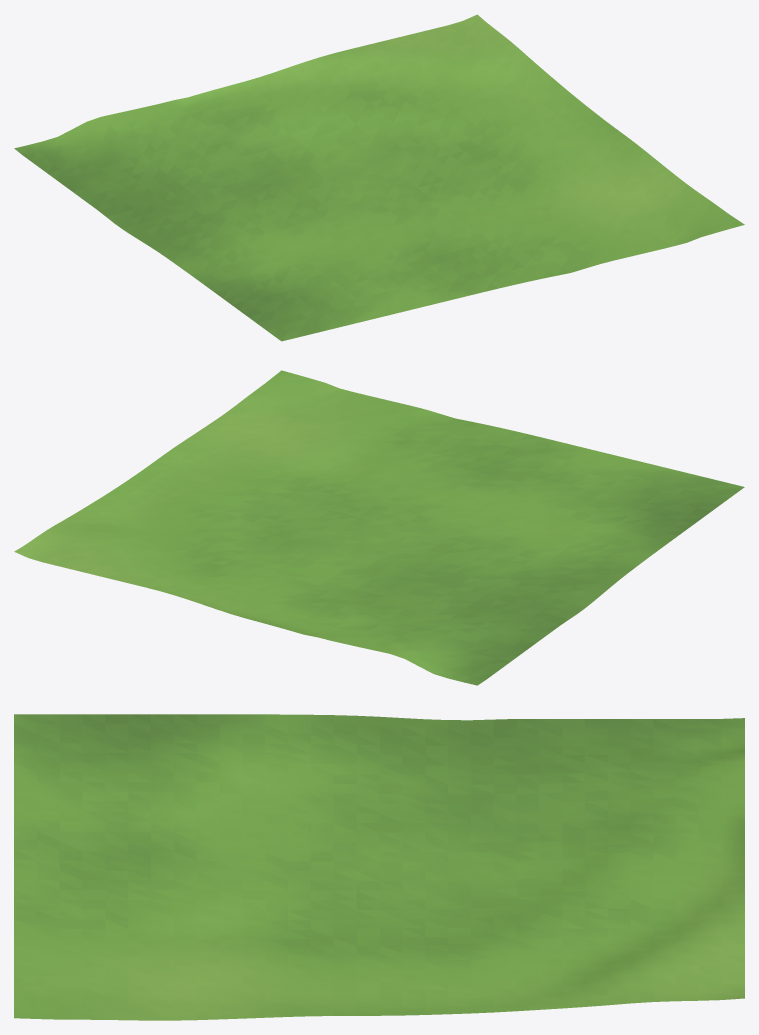
The model's file is terrain_r3_c3.glb.
3 renders of one model, top to bottom at view 1: azimuth 30°, elevation 25°; view 2: azimuth 150°, elevation 25°; view 3: azimuth 270°, elevation 25°, orthographic. The views are drawn at different scales.
Visible parts, largest first — view 1: terrain_r3_c3; view 2: terrain_r3_c3; view 3: terrain_r3_c3.
Boxes of the visible parts, <box> form: terrain_r3_c3: <box>14,14,744,341</box>; terrain_r3_c3: <box>14,370,744,685</box>; terrain_r3_c3: <box>14,714,744,1020</box>.
Size of the model in its own units: 128 by 5.92 by 128.
Materials: 1 (1 with a texture image).
